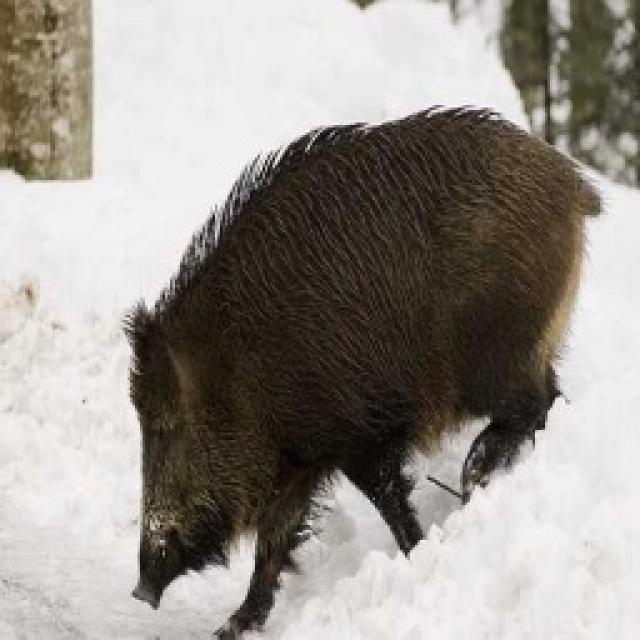pig: (120, 100, 602, 638)
